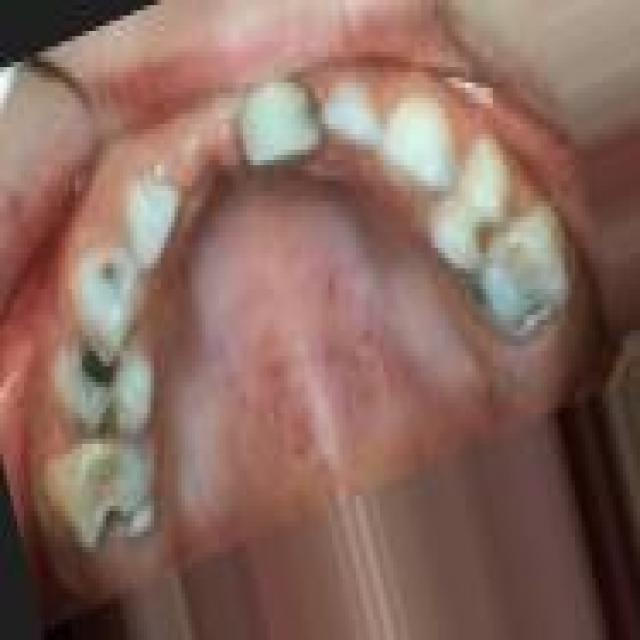caries: (471, 232, 553, 347), (85, 482, 136, 552), (71, 327, 125, 389), (89, 242, 139, 301), (86, 387, 132, 446)
